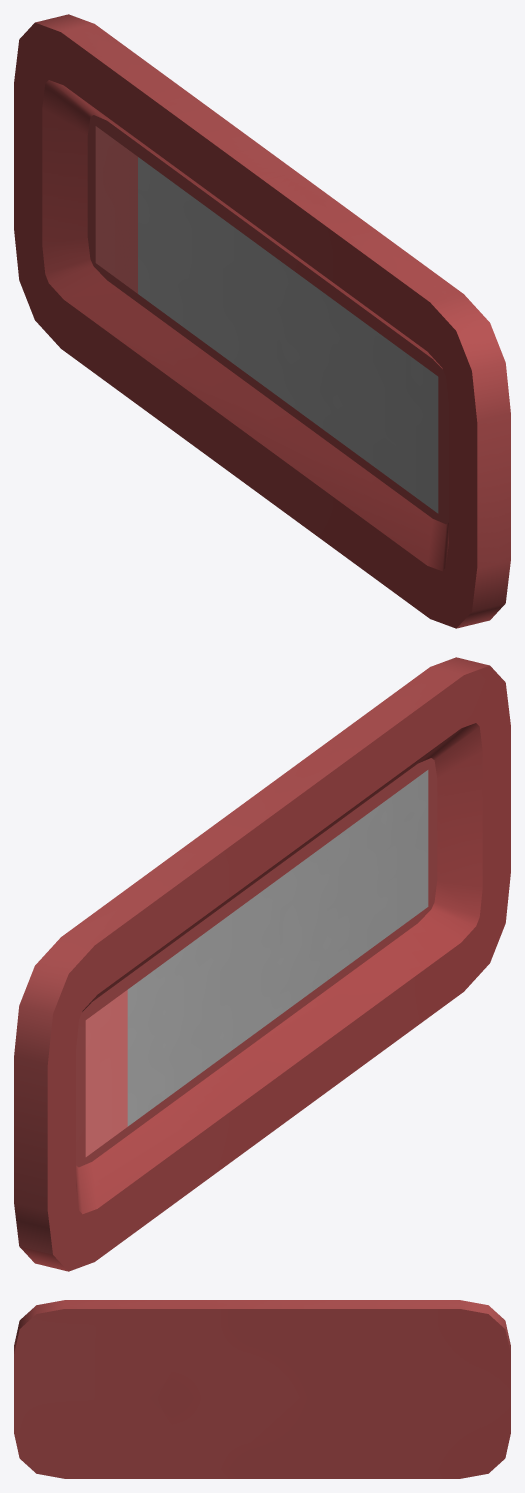
File: hypercasual_prop017.FBX
3 renders of one model, top to bottom at view 1: azimuth 30°, elevation 25°; view 2: azimuth 150°, elevation 25°; view 3: azimuth 270°, elevation 25°, orthographic. The views are drawn at different scales.
Visible parts, largest first — view 1: hypercasual_prop017; view 2: hypercasual_prop017; view 3: hypercasual_prop017.
Boxes of the visible parts, bbox=[...] form: hypercasual_prop017: bbox=[14, 14, 510, 628]; hypercasual_prop017: bbox=[14, 657, 510, 1271]; hypercasual_prop017: bbox=[14, 1300, 510, 1478].
Bounding box in the file's own units: 0.0591 × 0.5292 × 1.4.
1 material, 1 textured.
